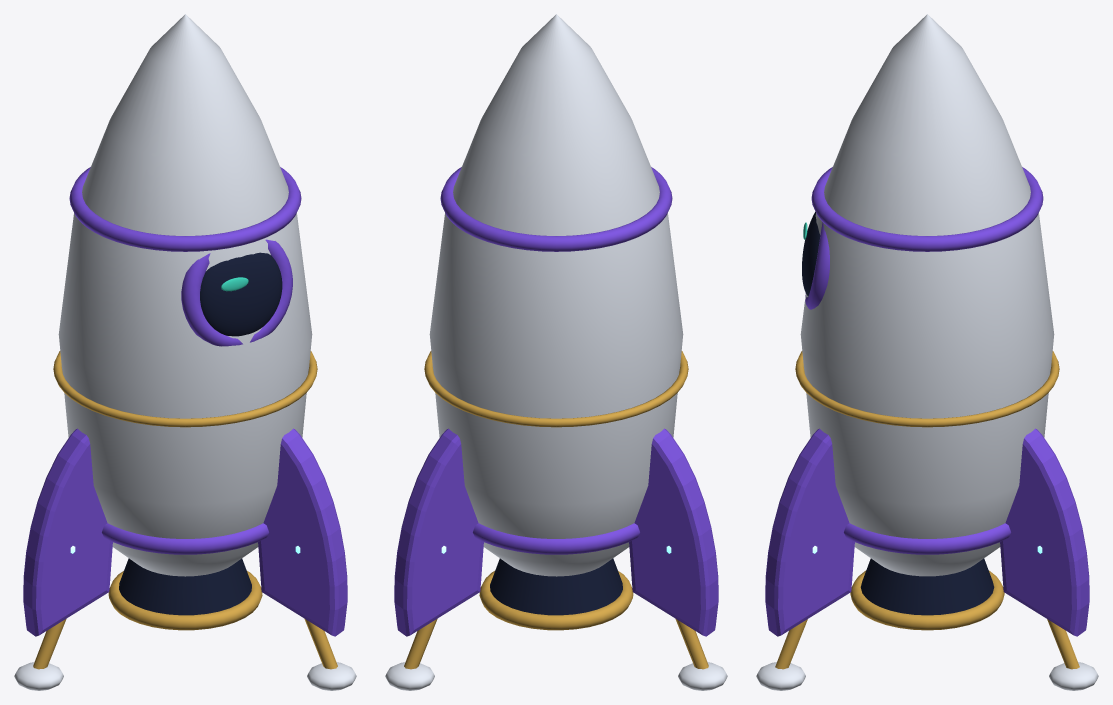
The model's file is rocket.glb.
3 views of the same model, side by side, from view 1: azimuth 30°, elevation 25°; view 2: azimuth 150°, elevation 25°; view 3: azimuth 270°, elevation 25° (orthographic).
Parts seen in each view (by area): view 1: MyoSkills pearl explorer / Ivory ceramic, MyoSkills pearl explorer / Violet satin resin, MyoSkills pearl explorer / Navy glass, MyoSkills pearl explorer / Champagne metal, Leg 0 / Ivory ceramic, Leg 1 / Ivory ceramic, Leg 1 / Champagne metal, Leg 0 / Champagne metal; view 2: MyoSkills pearl explorer / Ivory ceramic, MyoSkills pearl explorer / Violet satin resin, MyoSkills pearl explorer / Champagne metal, MyoSkills pearl explorer / Navy glass, Leg 0 / Ivory ceramic, Leg 2 / Ivory ceramic, Leg 2 / Champagne metal, Leg 0 / Champagne metal; view 3: MyoSkills pearl explorer / Ivory ceramic, MyoSkills pearl explorer / Violet satin resin, MyoSkills pearl explorer / Navy glass, MyoSkills pearl explorer / Champagne metal, Leg 1 / Ivory ceramic, Leg 2 / Ivory ceramic, Leg 1 / Champagne metal, Leg 2 / Champagne metal.
Boxes of the visible parts, box(x1,y1,x2,y2) form: MyoSkills pearl explorer / Ivory ceramic: box(58, 14, 312, 576); MyoSkills pearl explorer / Violet satin resin: box(23, 167, 347, 636); MyoSkills pearl explorer / Navy glass: box(119, 252, 282, 615); MyoSkills pearl explorer / Champagne metal: box(53, 351, 317, 630); Leg 0 / Ivory ceramic: box(14, 662, 63, 690); Leg 1 / Ivory ceramic: box(307, 662, 356, 690); Leg 1 / Champagne metal: box(304, 618, 337, 669); Leg 0 / Champagne metal: box(33, 618, 66, 669); MyoSkills pearl explorer / Ivory ceramic: box(429, 14, 683, 576); MyoSkills pearl explorer / Violet satin resin: box(394, 167, 718, 636); MyoSkills pearl explorer / Champagne metal: box(424, 351, 688, 630); MyoSkills pearl explorer / Navy glass: box(490, 558, 622, 615); Leg 0 / Ivory ceramic: box(678, 662, 727, 690); Leg 2 / Ivory ceramic: box(385, 662, 434, 690); Leg 2 / Champagne metal: box(404, 618, 437, 669); Leg 0 / Champagne metal: box(675, 618, 708, 669); MyoSkills pearl explorer / Ivory ceramic: box(800, 14, 1054, 576); MyoSkills pearl explorer / Violet satin resin: box(765, 167, 1089, 636); MyoSkills pearl explorer / Navy glass: box(802, 211, 994, 615); MyoSkills pearl explorer / Champagne metal: box(795, 351, 1059, 630); Leg 1 / Ivory ceramic: box(756, 662, 805, 690); Leg 2 / Ivory ceramic: box(1049, 662, 1098, 690); Leg 1 / Champagne metal: box(775, 619, 807, 669); Leg 2 / Champagne metal: box(1047, 619, 1079, 669).
Size of the model in its own units: 0.849 by 1.83 by 0.8921.
